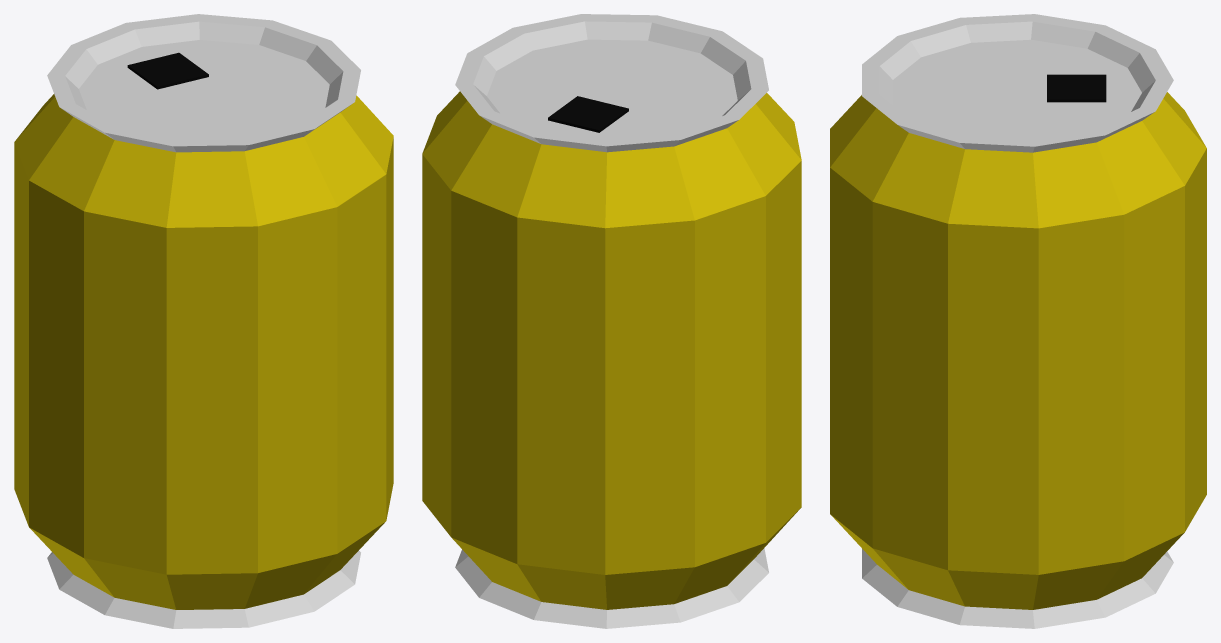
The model's file is Lata.fbx.
3 views of the same model, side by side, from view 1: azimuth 30°, elevation 25°; view 2: azimuth 150°, elevation 25°; view 3: azimuth 270°, elevation 25° (orthographic).
Parts seen in each view (by area): view 1: Cylinder.001; view 2: Cylinder.001; view 3: Cylinder.001.
Part boxes in pixels (x1,y1,x2,y2): Cylinder.001: (14, 14, 393, 628); Cylinder.001: (422, 14, 801, 628); Cylinder.001: (830, 14, 1206, 628).
Size of the model in its own units: 199 by 278 by 197.
